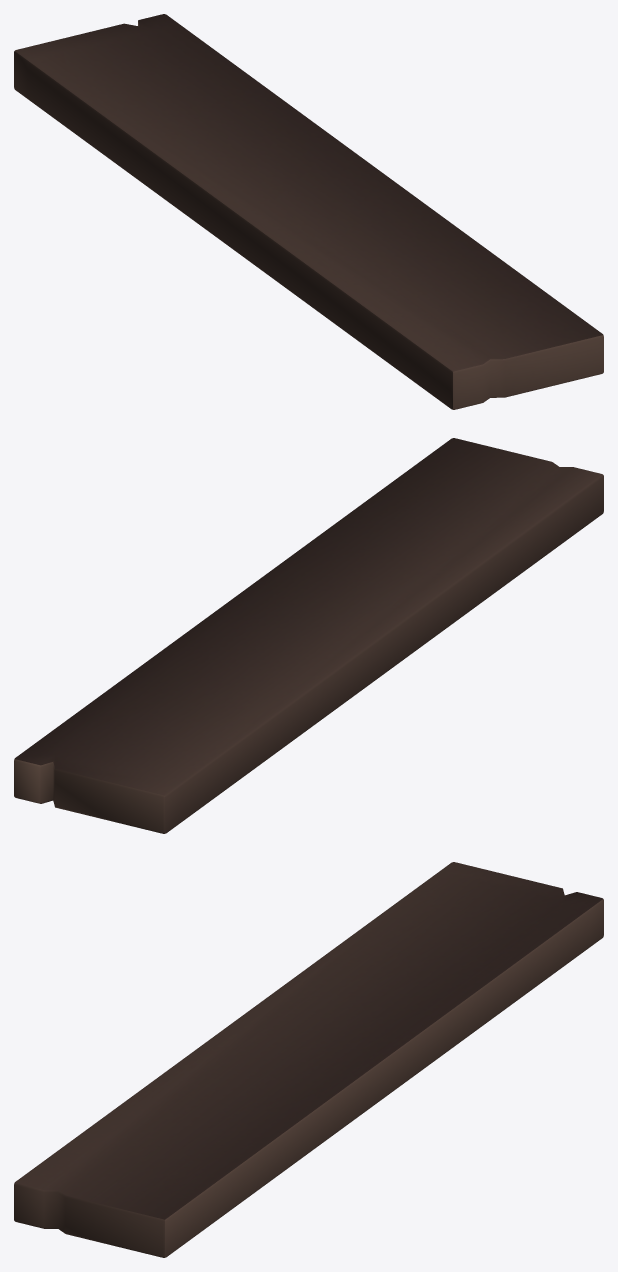
File: plank.fbx
3 views of the same model, one above another, from view 1: azimuth 30°, elevation 25°; view 2: azimuth 150°, elevation 25°; view 3: azimuth 330°, elevation 25° (orthographic).
Parts seen in each view (by area): view 1: Box001; view 2: Box001; view 3: Box001.
Part boxes in pixels (box(x1,y1,x2,y2)): Box001: box(14, 14, 603, 409); Box001: box(14, 438, 603, 833); Box001: box(14, 862, 603, 1257).
Size of the model in its own units: 200 by 50 by 1000.
